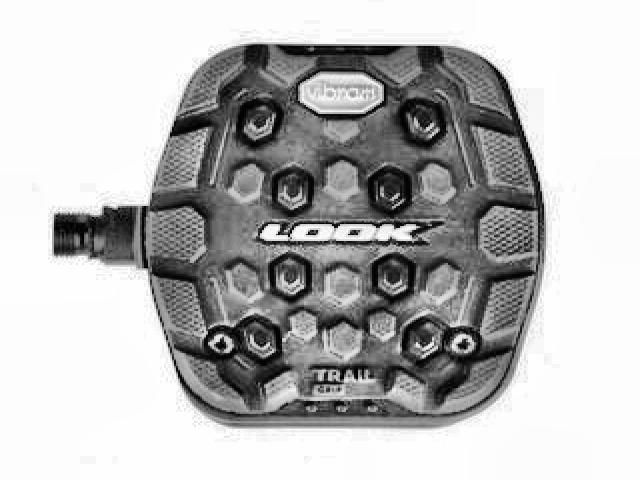pedal: (50, 39, 550, 430)
